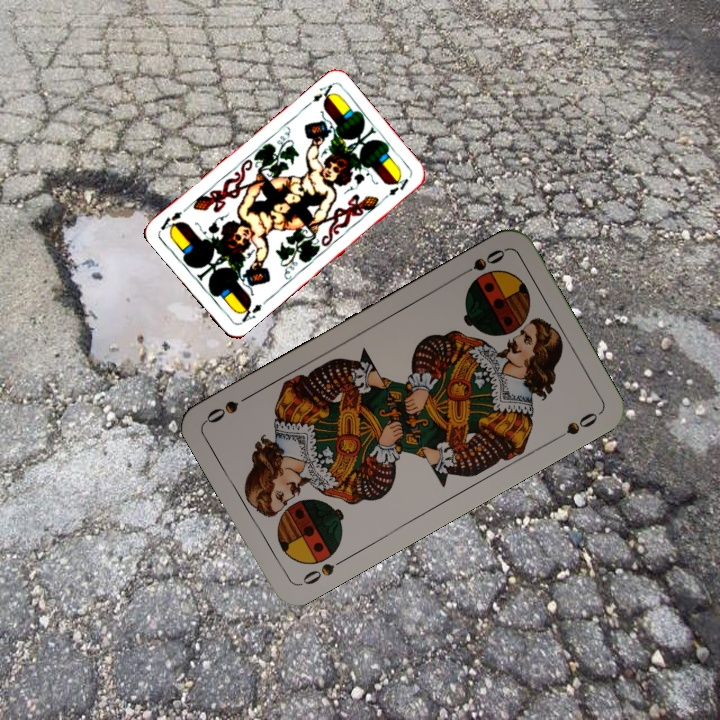EA: (234, 296, 270, 327), (301, 80, 337, 110)
SO: (296, 553, 350, 589), (454, 245, 508, 280)
